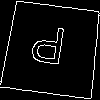P: (27, 24, 69, 74)
